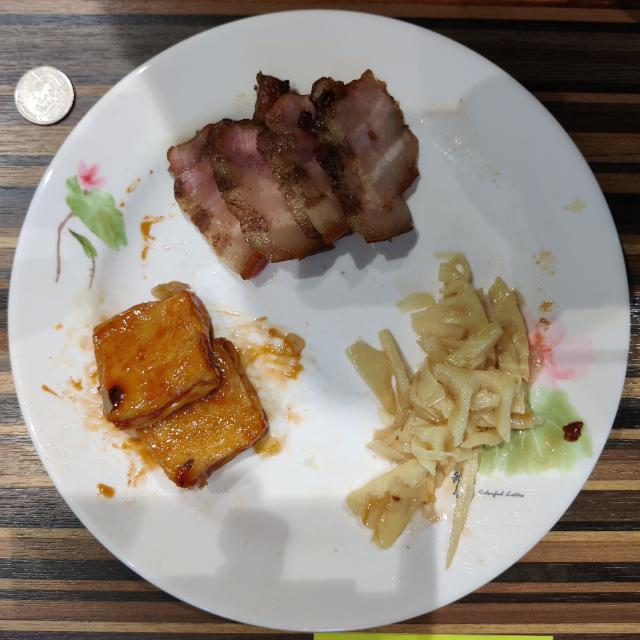coin: (15, 66, 74, 125)
creamy tofu: (92, 282, 269, 488)
red grilled pork: (168, 71, 418, 279)
